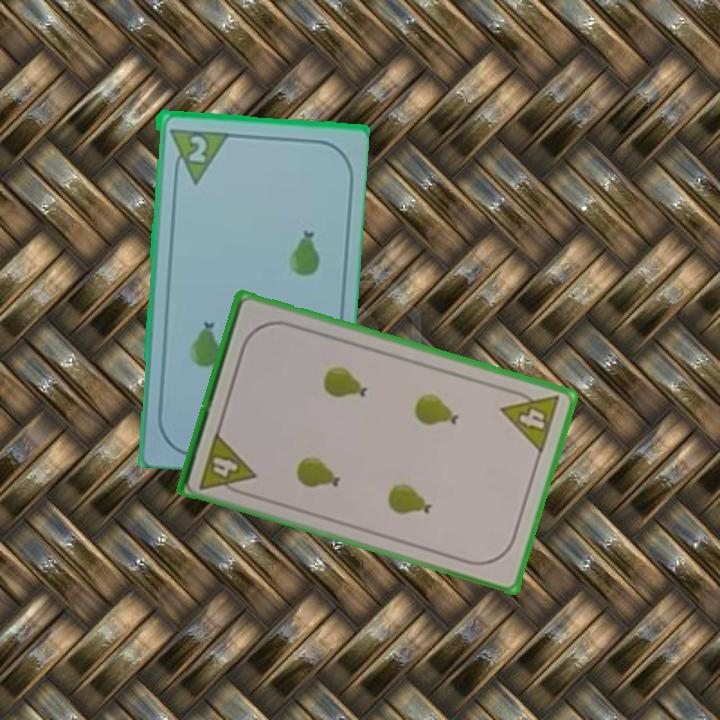2p: (165, 124, 228, 186)
4p: (497, 384, 563, 456), (195, 428, 259, 499)
